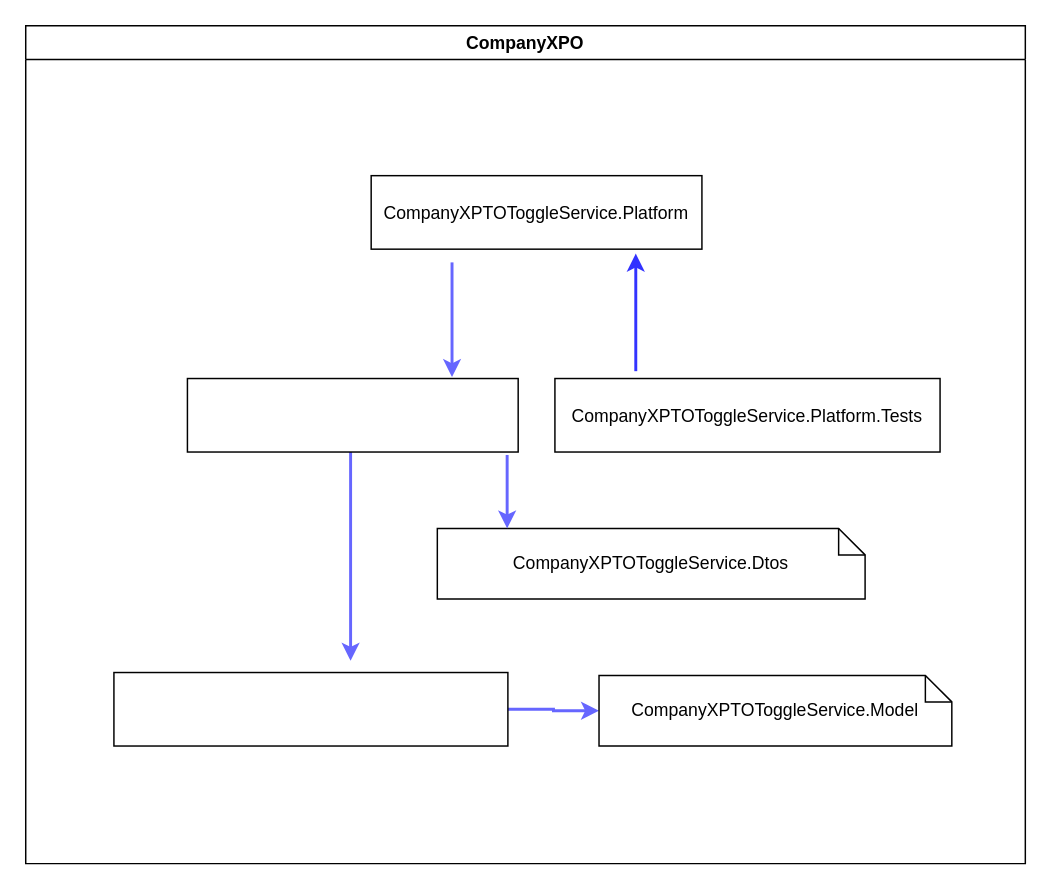
Some shapes in this 1051 by 889 pixel diagram are drawn without their labels. The shapes that lost their labels are listed below. From the top down, each one's centre as x and y in pixels, then its label:
At point 352,414: "CompanyXPTOToggleService.Core".
At point 310,708: "CompanyXPTOToggleService.DataAccess".
